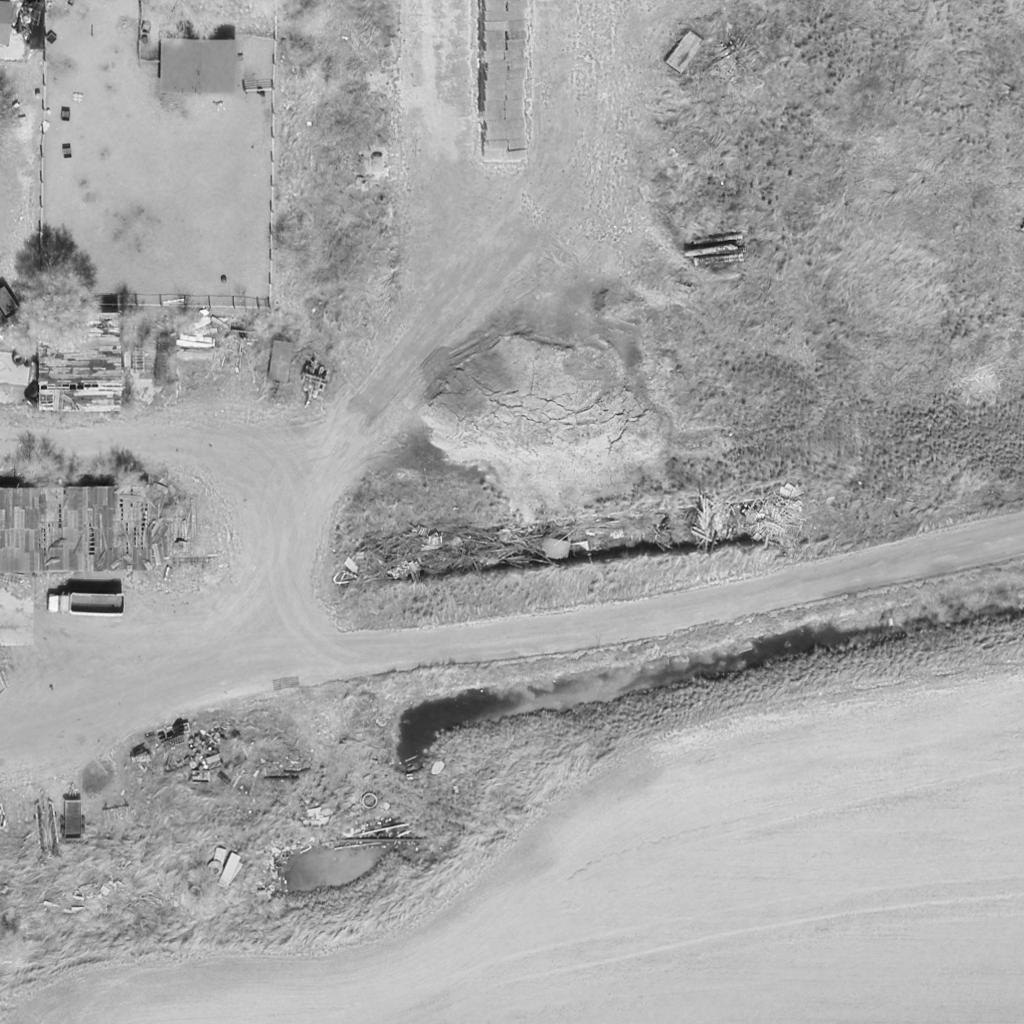vehicle: (46, 591, 126, 619)
